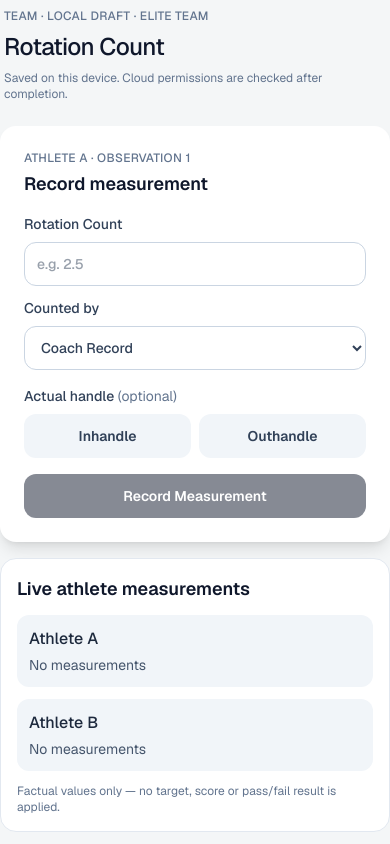
Scenario: ExerciseTeamExecutionScreen › records standalone Team Measurements for the active athlete and counter
This screenshot has width=390, height=844.
Check: the text "Athlete A · Observation 1" is shown, box [24,150,191,166]
Type "3.5" into the number field labelled "Rotation Count" at (195, 264), box [24,242,366,286]
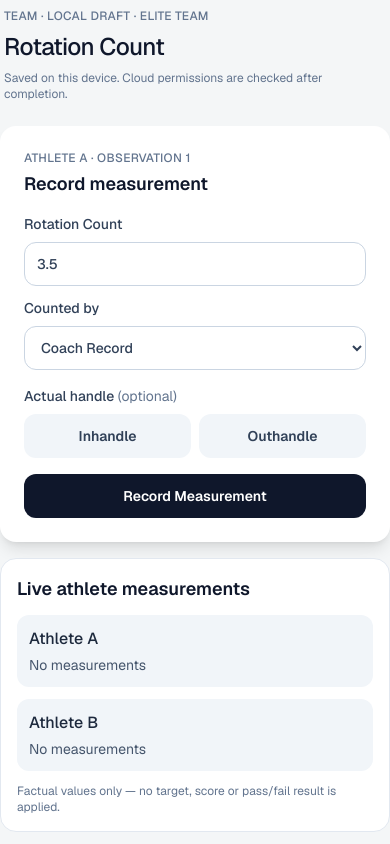
Select "Coach Record" in the dropdown labelled "Counted by" at (195, 348), box [24,326,366,370]
Click the button "Outhandle" at (282, 436), box [199,414,366,458]
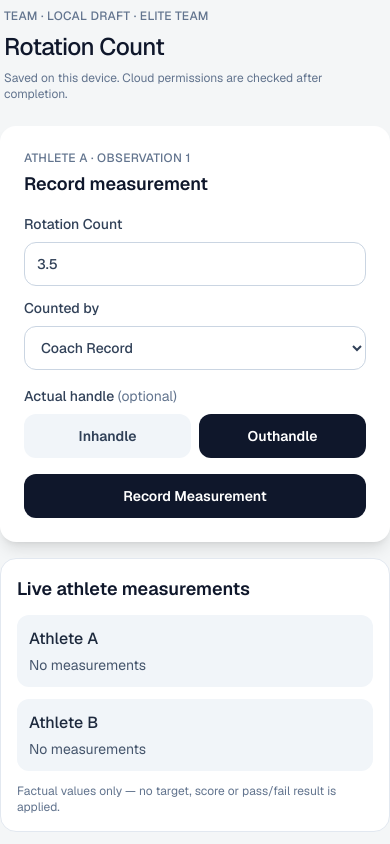
Click the button "Record Measurement" at (195, 496), box [24,474,366,518]
(page scrolled)
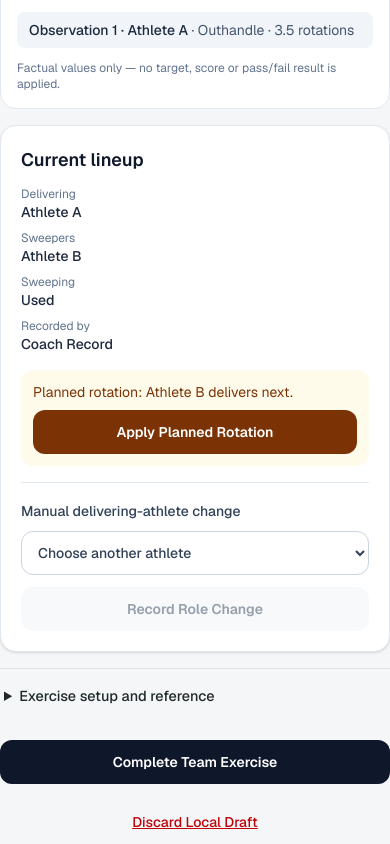
Check: the text "Observation 1 · Athlete A" is shown, box [29,21,188,39]
Check: the button "Complete Team Exercise" is enabled, box [0,740,389,784]
